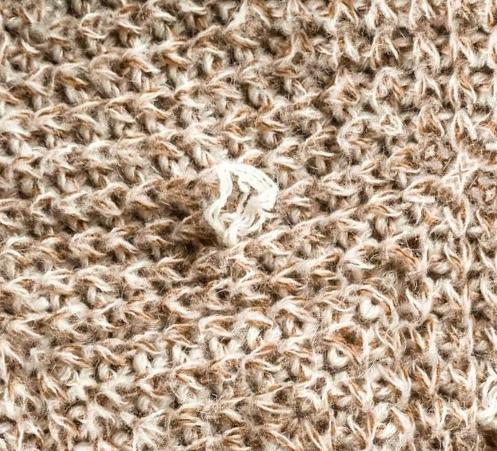snag: (193, 153, 284, 251)
